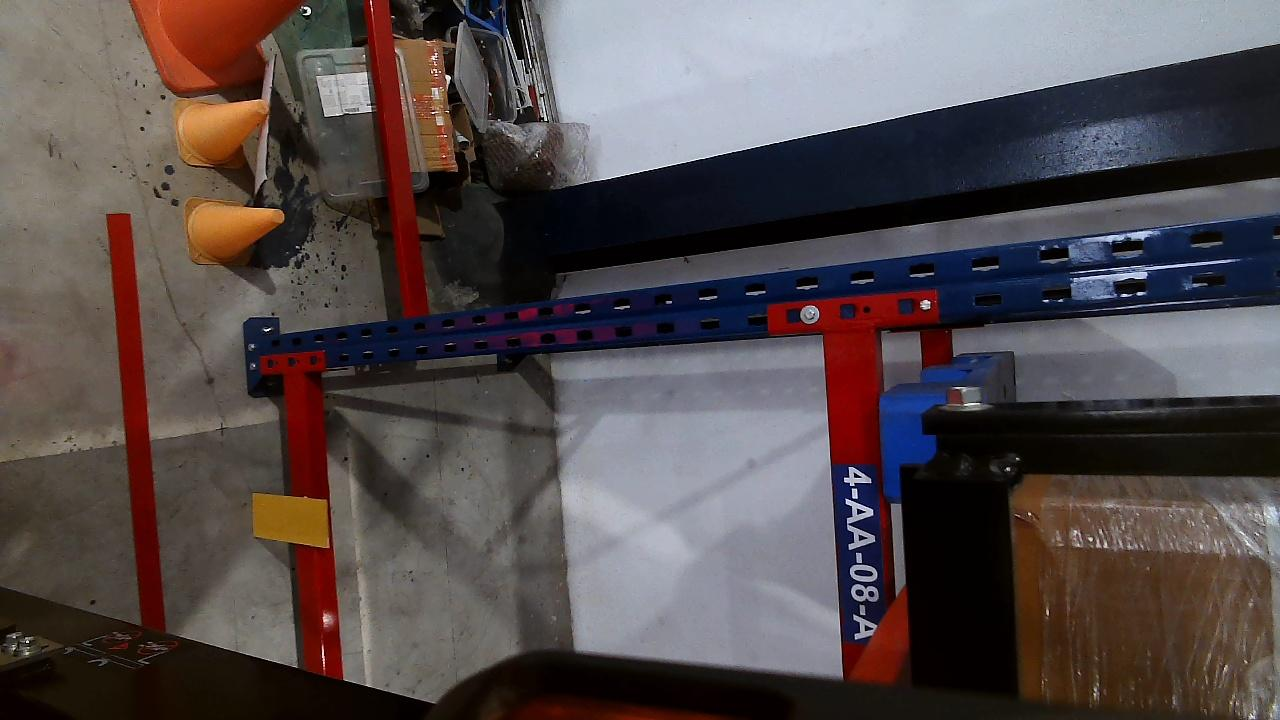h_rack: (820, 326, 909, 681), (283, 372, 323, 673)
orange_strip: (251, 492, 329, 546)
red_line: (107, 212, 164, 628)
